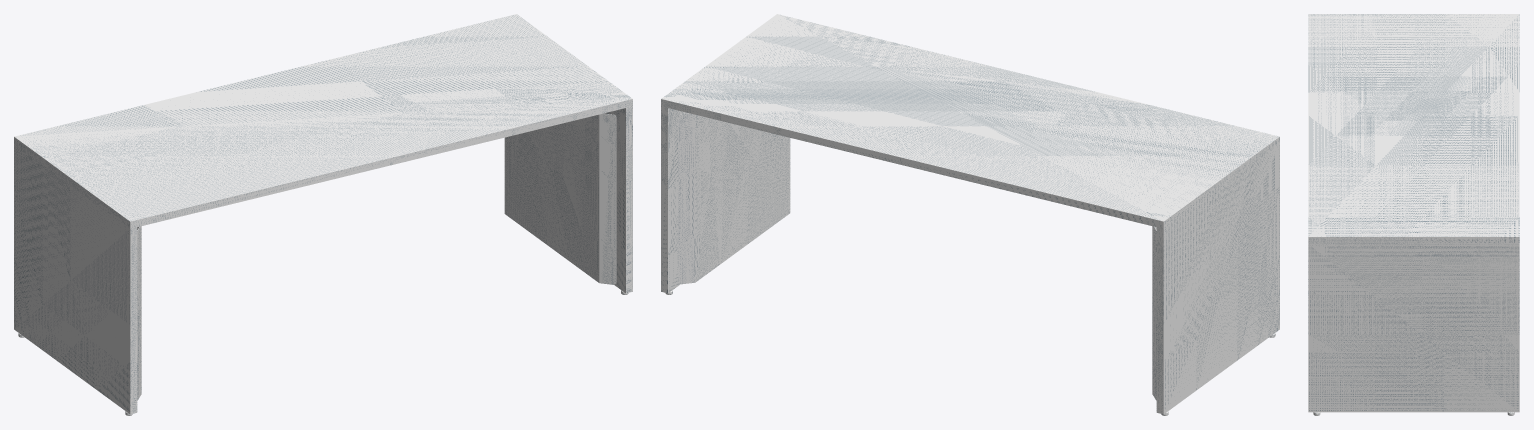
The model's file is 64-DKX10_20080.fbx.
3 renders of one model, left to right at view 1: azimuth 30°, elevation 25°; view 2: azimuth 150°, elevation 25°; view 3: azimuth 270°, elevation 25°, orthographic. The views are drawn at different scales.
Visible parts, largest first — view 1: Model, Group_14, br96_1_3, Group_14_1, br96_1_1; view 2: Model, Group_14, br96_1_3, Group_14_1, br96_1_1; view 3: Model, Group_14_1.
Part boxes in pixels (x1=…): Model: x1=14, y1=14, x2=632, y2=228; Group_14: x1=14, y1=144, x2=137, y2=414; br96_1_3: x1=504, y1=113, x2=616, y2=284; Group_14_1: x1=604, y1=106, x2=632, y2=293; br96_1_1: x1=137, y1=226, x2=141, y2=400; Model: x1=661, y1=14, x2=1279, y2=228; Group_14: x1=1156, y1=144, x2=1279, y2=414; br96_1_3: x1=678, y1=113, x2=790, y2=284; Group_14_1: x1=661, y1=106, x2=688, y2=293; br96_1_1: x1=1152, y1=226, x2=1156, y2=400; Model: x1=1308, y1=14, x2=1519, y2=243; Group_14_1: x1=1308, y1=243, x2=1519, y2=412.
Size of the model in its own units: 200 by 75 by 80.
